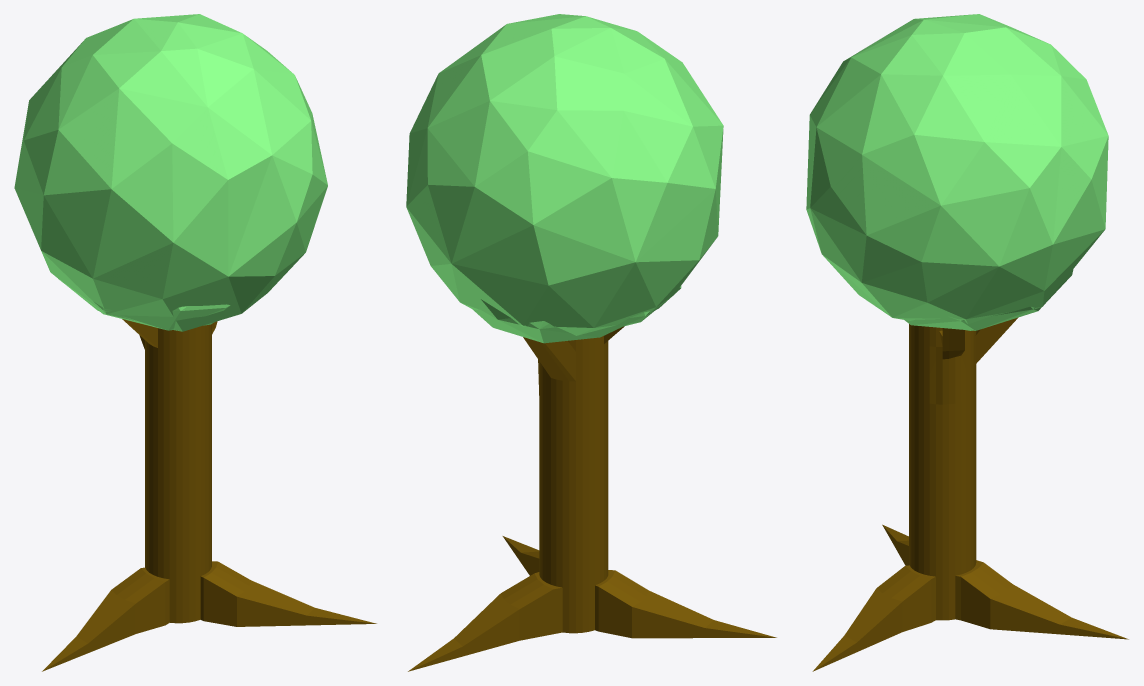
The model's file is Tree.fbx.
The picture shows the model from 3 angles, left to right: view 1: azimuth 30°, elevation 25°; view 2: azimuth 150°, elevation 25°; view 3: azimuth 270°, elevation 25°; orthographic projection. The views are drawn at different scales.
Parts seen in each view (by area): view 1: Leaves 1, Trunk, Leaves 2; view 2: Leaves 1, Trunk, Leaves 2; view 3: Leaves 1, Trunk, Leaves 2.
Boxes of the visible parts, bbox=[...] form: Leaves 1: bbox=[14, 14, 327, 331]; Trunk: bbox=[42, 319, 376, 671]; Leaves 2: bbox=[59, 279, 230, 330]; Leaves 1: bbox=[406, 14, 723, 335]; Trunk: bbox=[408, 326, 776, 671]; Leaves 2: bbox=[472, 286, 681, 343]; Leaves 1: bbox=[806, 14, 1108, 330]; Trunk: bbox=[812, 317, 1128, 671]; Leaves 2: bbox=[904, 269, 1073, 330].
Bounding box in the file's own units: 726 × 1326 × 672.
